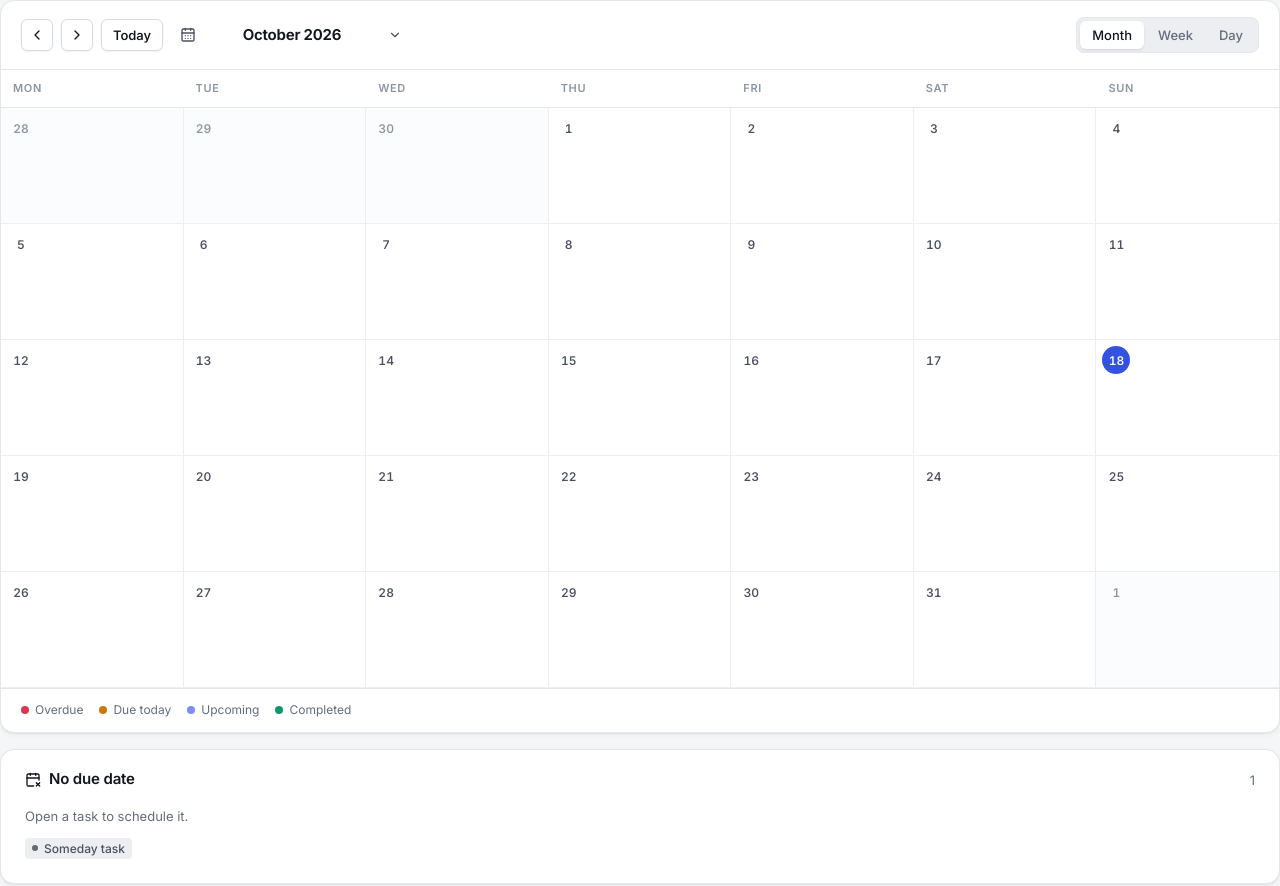
Test: TaskCalendar jump to date › keeps Today, previous/next and the undated-task section working
Click the button with aria-label "Jump to date" at (291, 35), box [171,18,411,52]
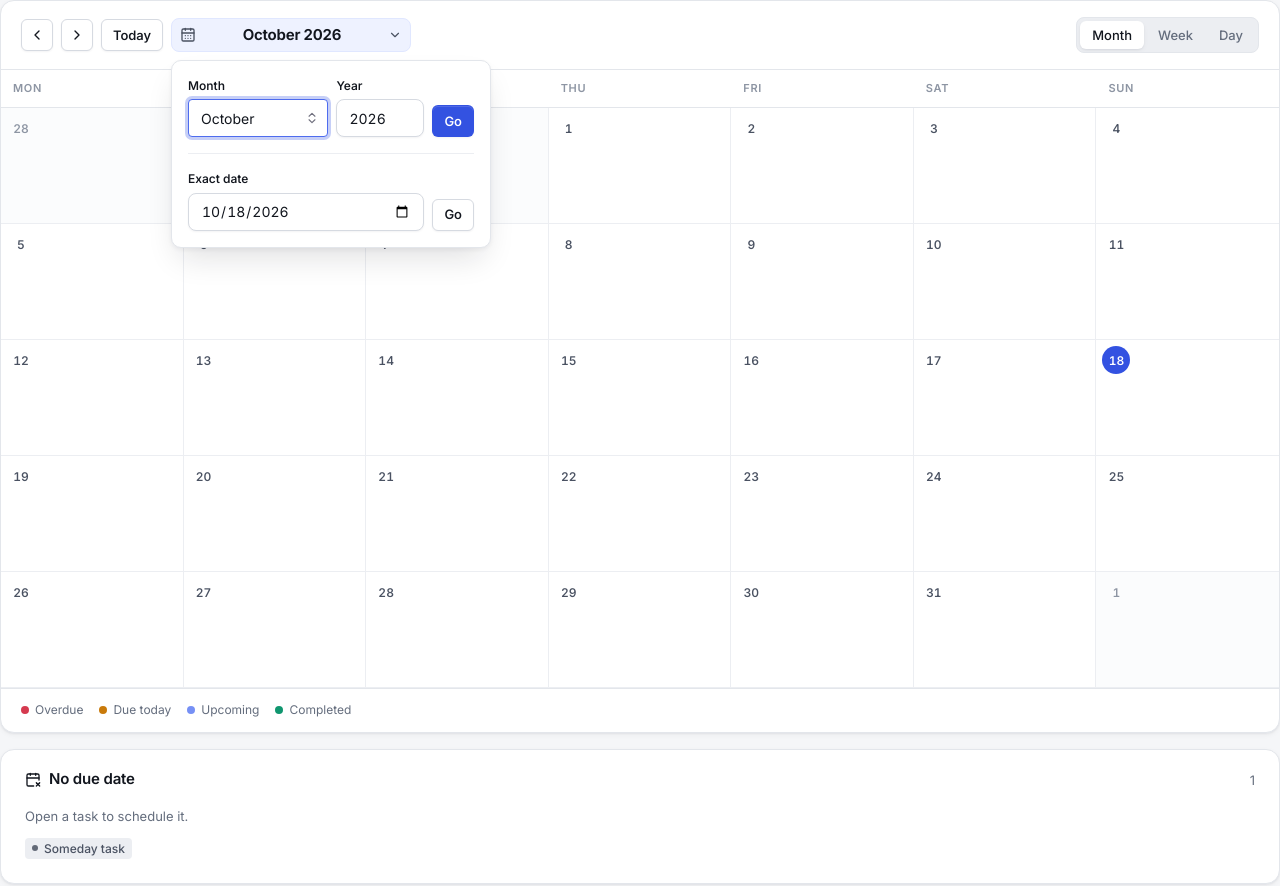
Replace the text in the number field labelled "Year" with "2031" at (380, 118), box [336,99,424,137]
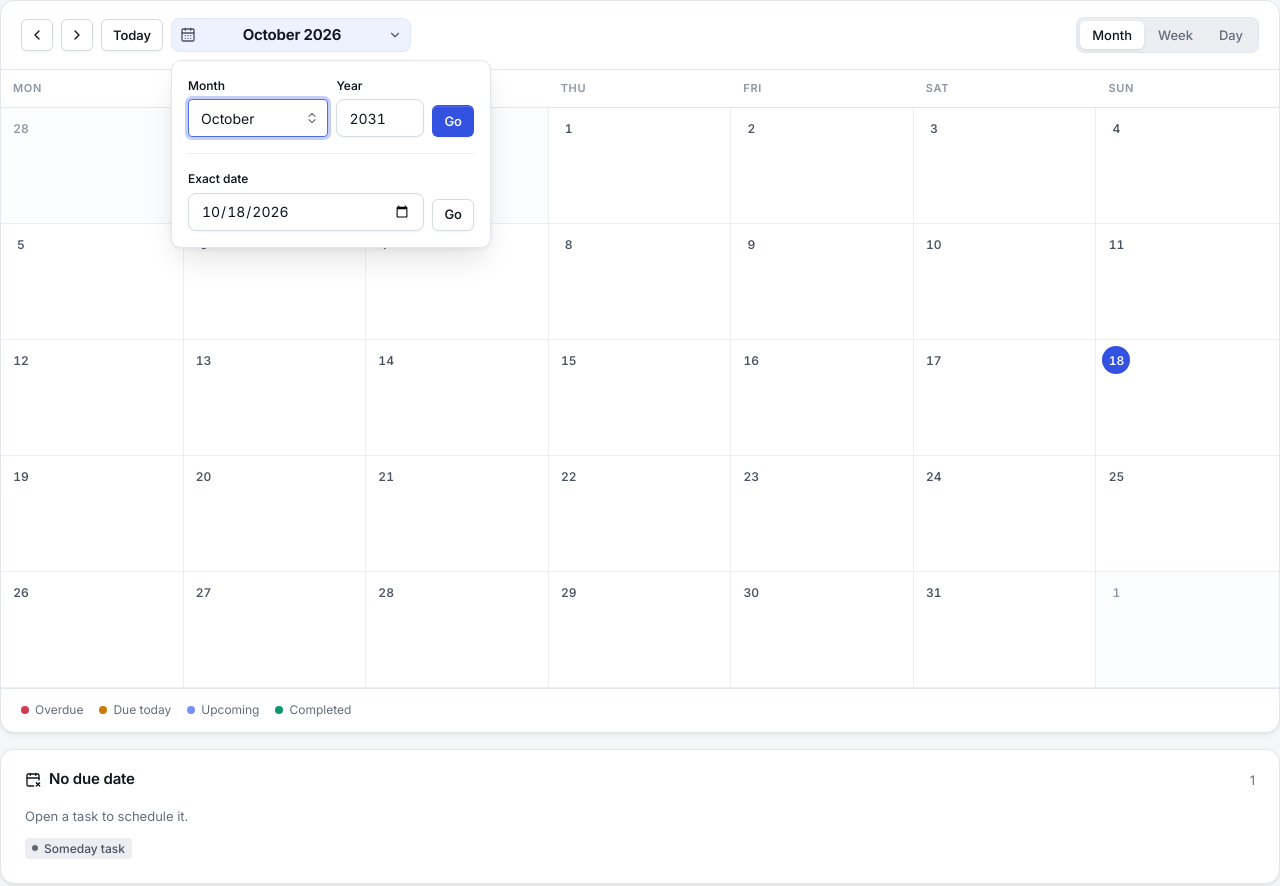
Select "March" in the dropdown labelled "Month" at (258, 118), box [188,99,328,137]
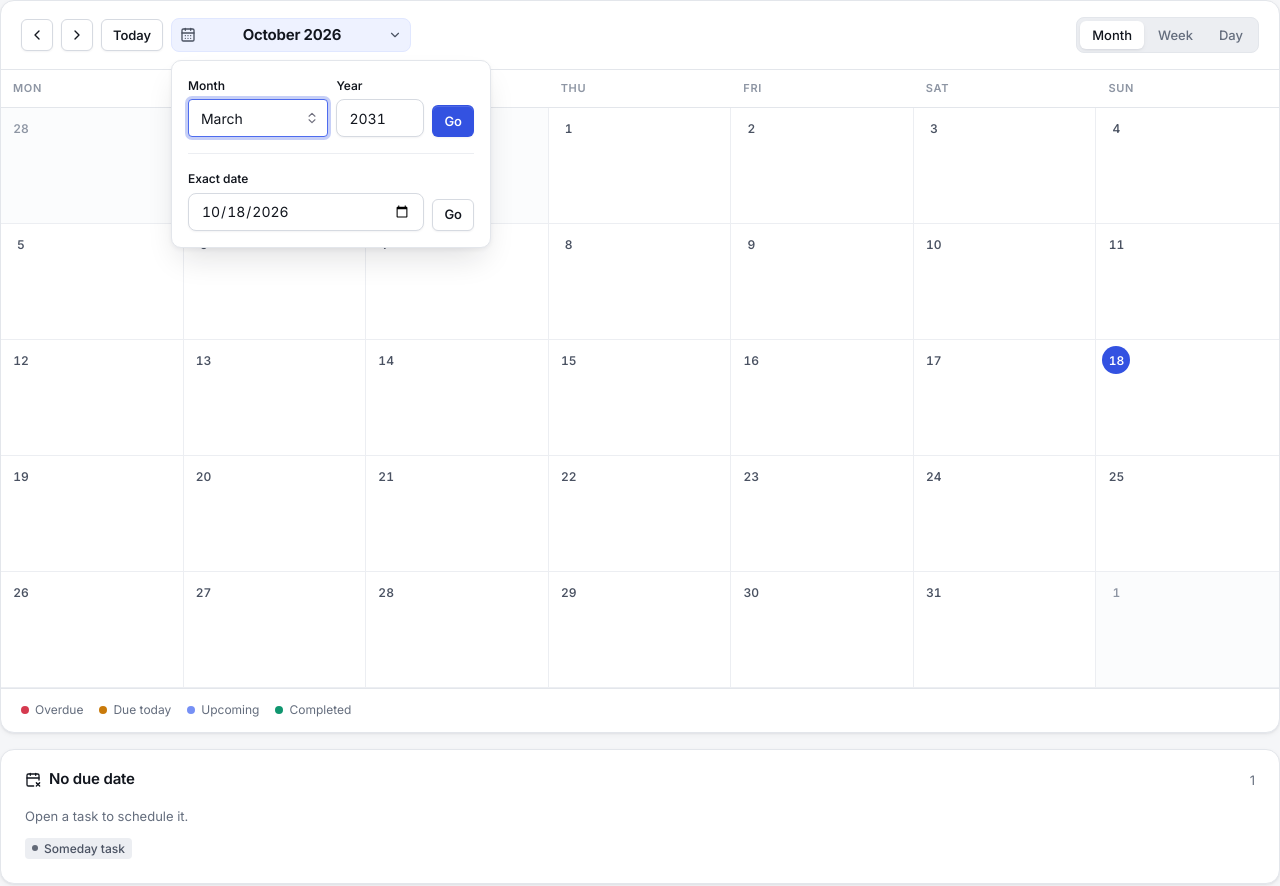
Click the button "Go" below "Year" at (453, 121), box [432,105,474,137]
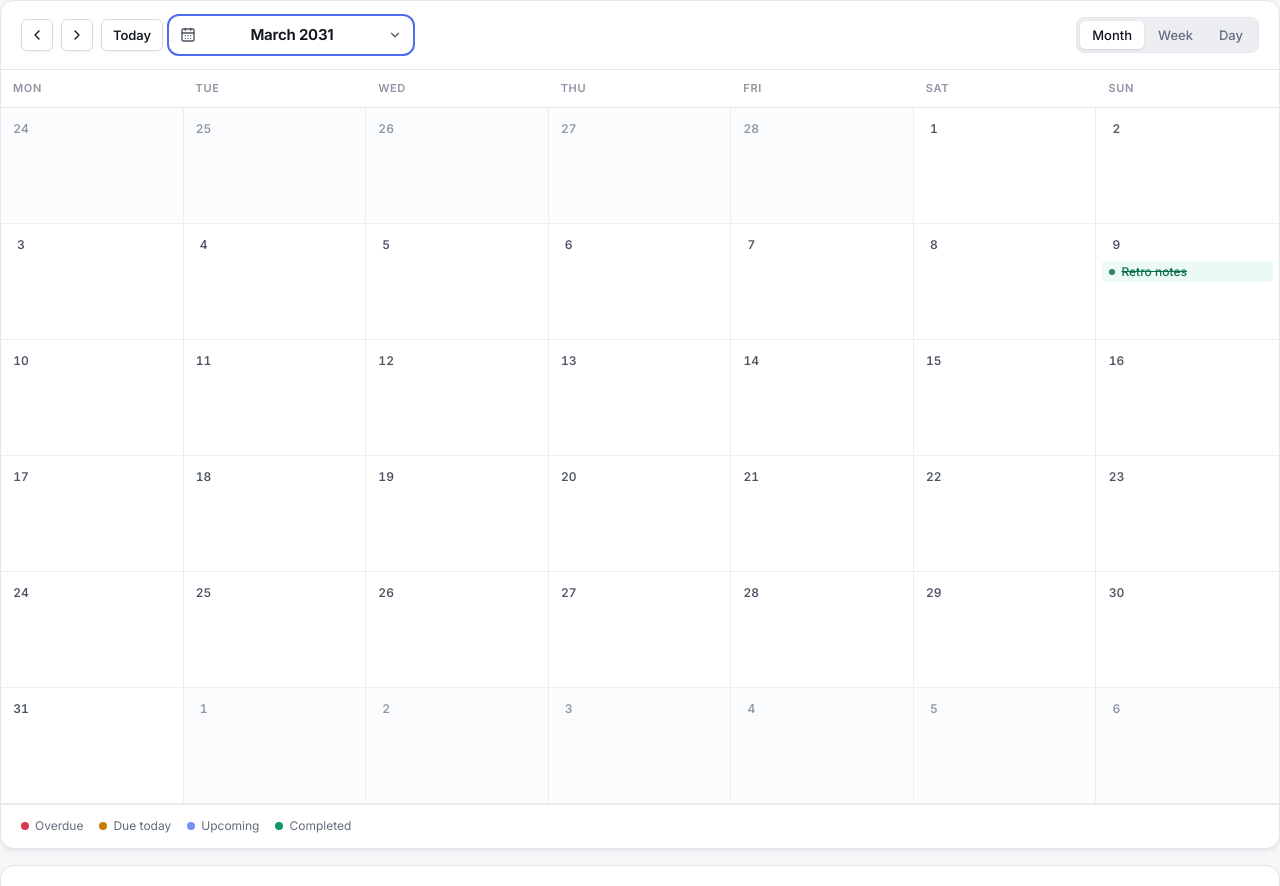
Click the button named "Next month" at (77, 35), box [61,19,93,51]
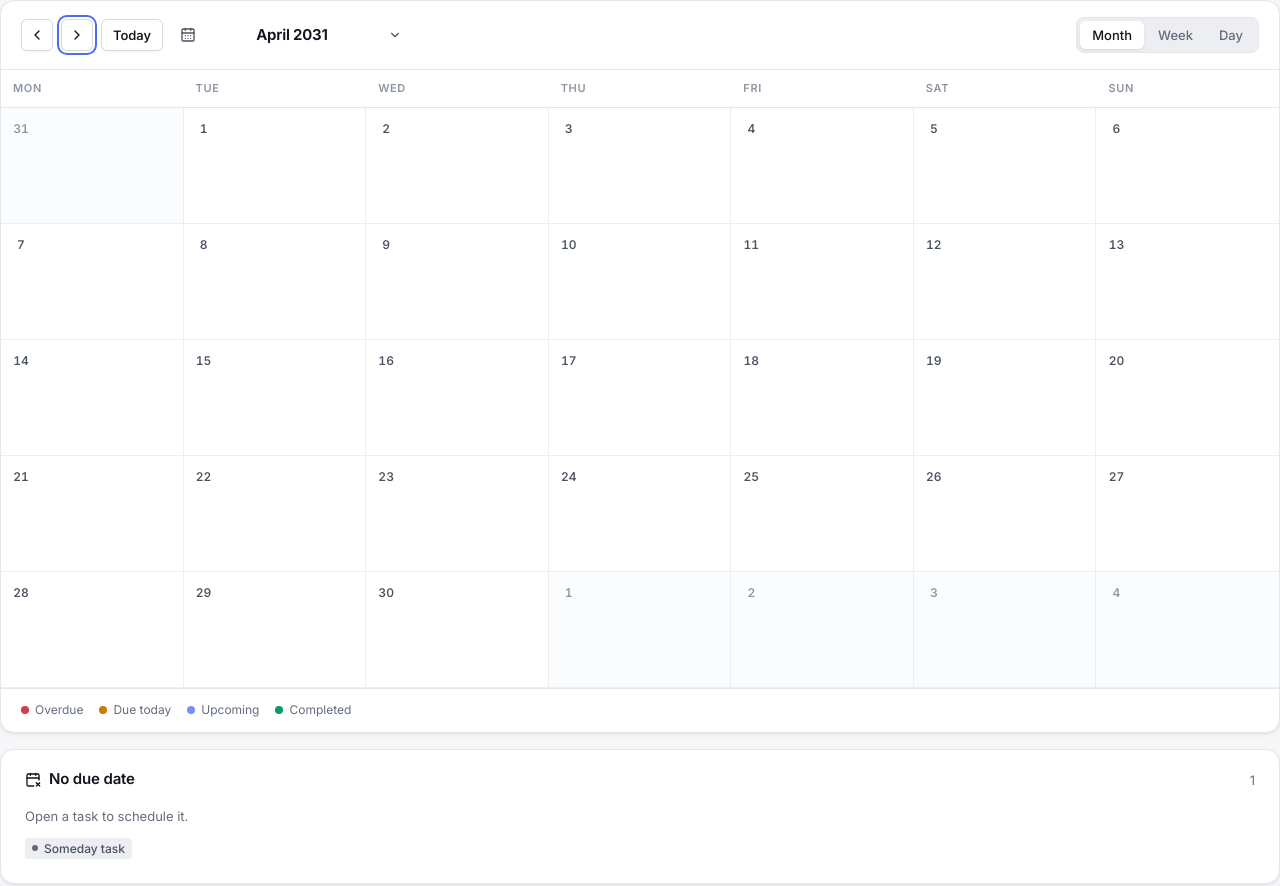
Click the button "Today" at (132, 35), box [101,19,163,51]
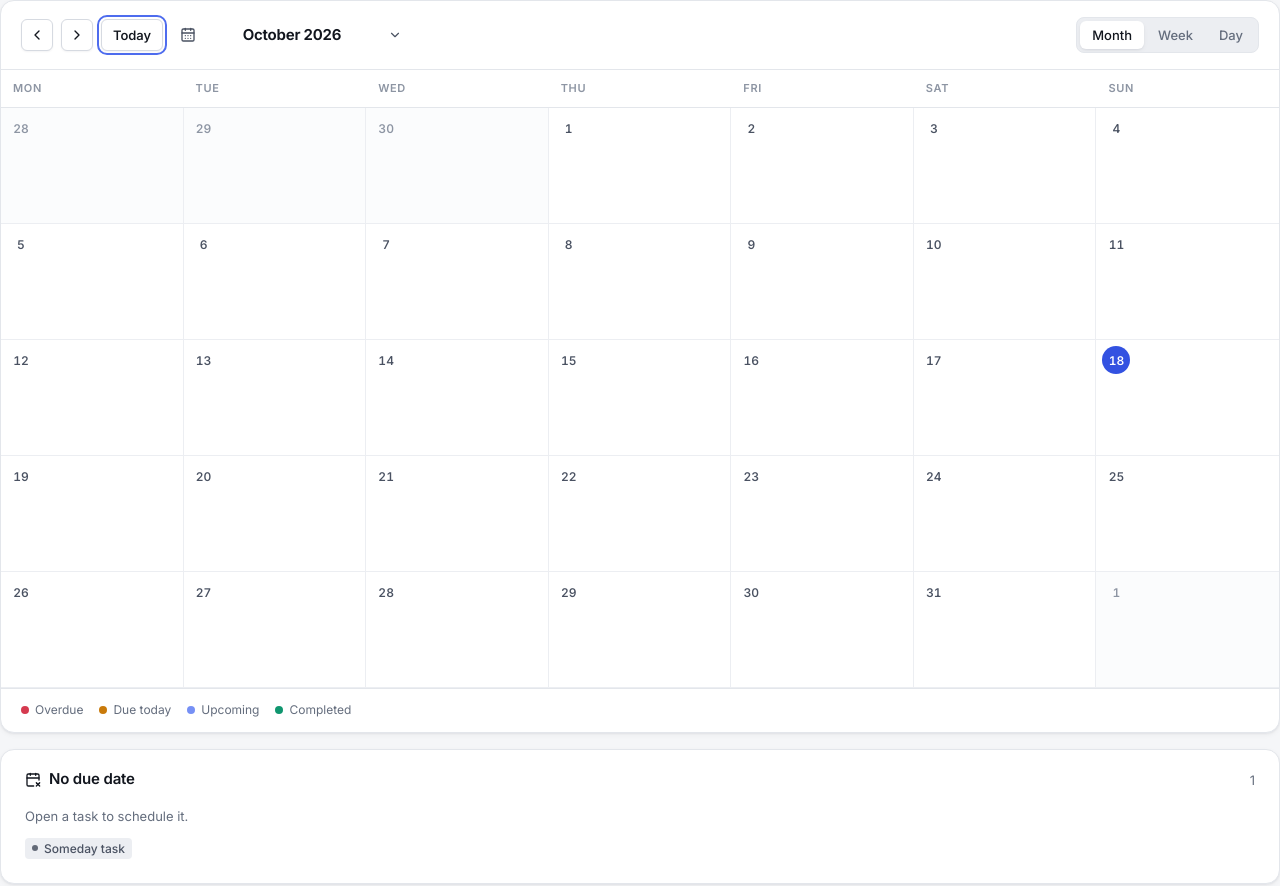
Expected: the button "Someday task" is shown, [25,838,132,859]
Result: the button with aria-label "Jump to date" reads "October 2026" at [171,18,411,52]
